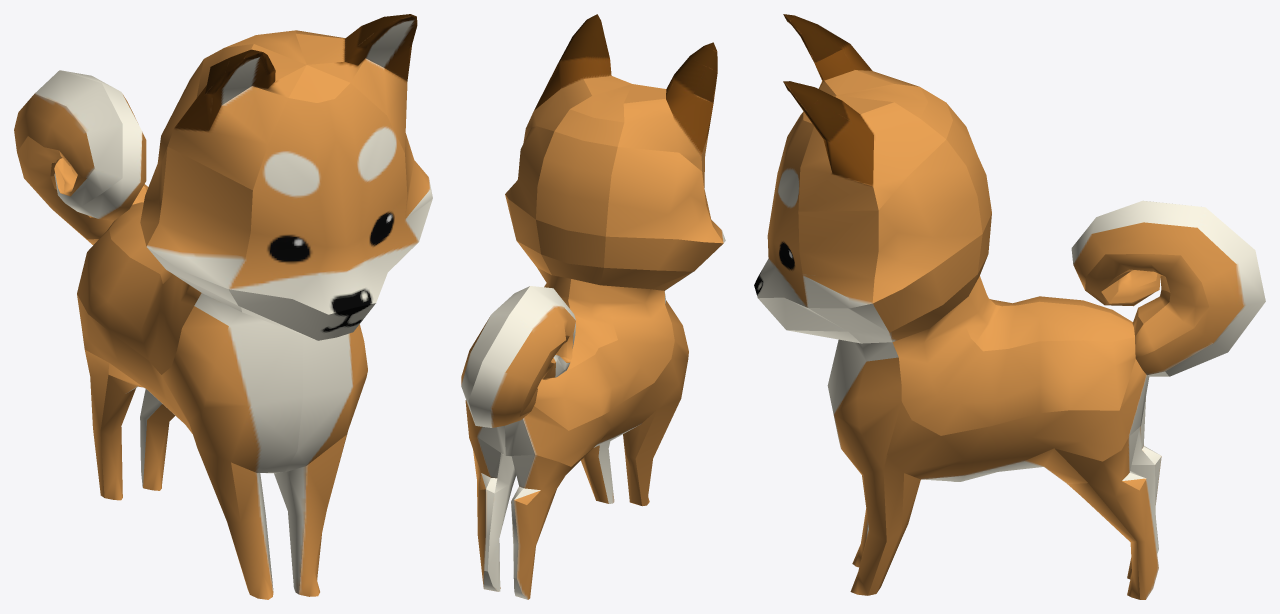
The model's file is tailWagging_frame4.obj.
The picture shows the model from 3 angles, left to right: view 1: azimuth 30°, elevation 25°; view 2: azimuth 150°, elevation 25°; view 3: azimuth 270°, elevation 25°; orthographic projection. The views are drawn at different scales.
Visible parts, largest first — view 1: newRigging:BodzL1; view 2: newRigging:BodzL1; view 3: newRigging:BodzL1.
Part boxes in pixels (<box>): newRigging:BodzL1: <box>14,14,432,599</box>; newRigging:BodzL1: <box>461,14,725,599</box>; newRigging:BodzL1: <box>754,14,1265,599</box>.
Size of the model in its own units: 3.91 by 7.94 by 6.81.
Materials: 1 (1 with a texture image).
